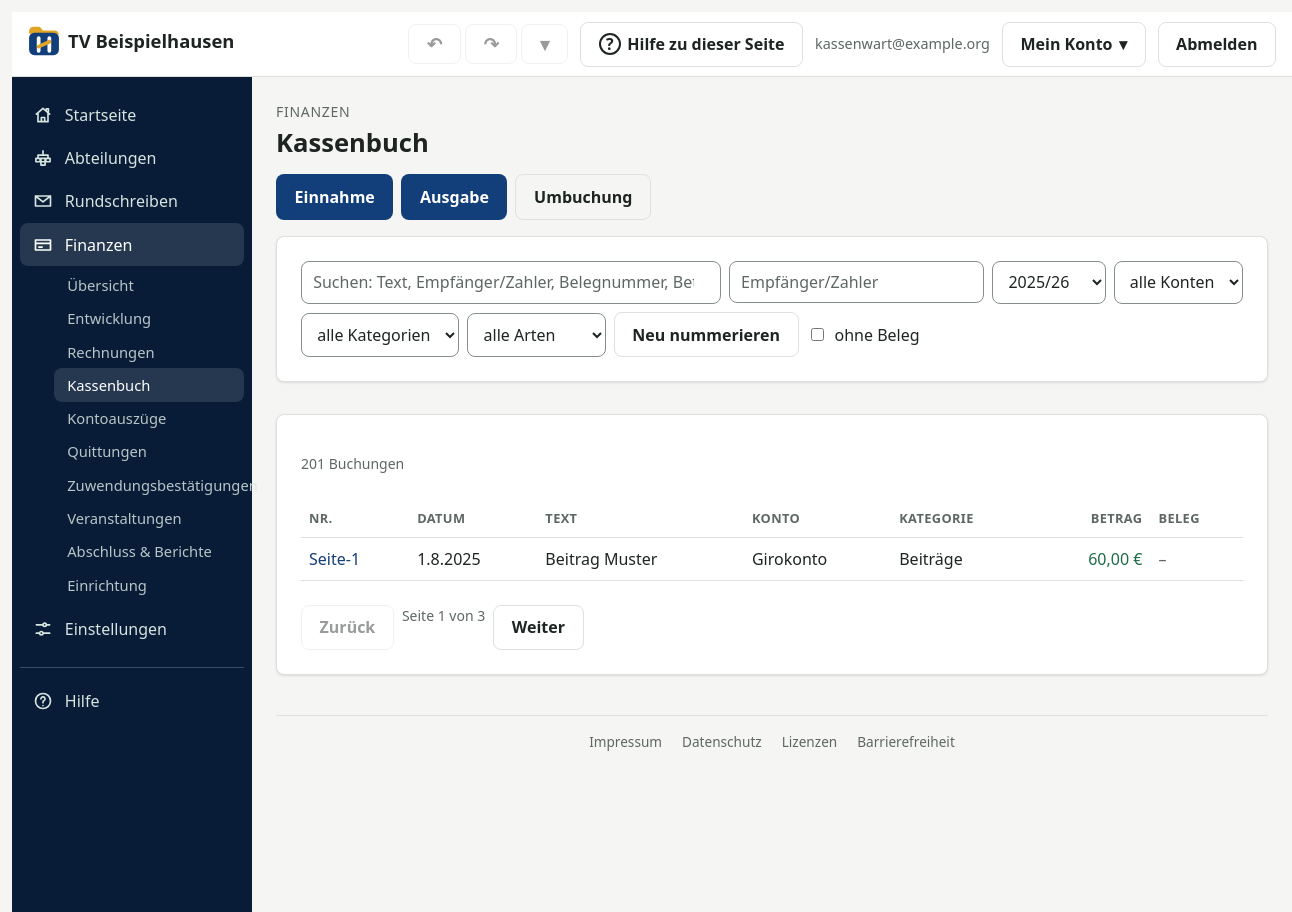
Test: Kasse › blättert im Kassenbuch vor und zurück (über 100 Buchungen)
expect the button "Seite-1" is shown: met, box x1=309 y1=547 x2=360 y2=571
expect the text "Seite 1 von 3" is shown: met, box x1=402 y1=606 x2=485 y2=625
Click the button "Weiter". click: [538, 627]
box: x1=493 y1=605 x2=584 y2=650
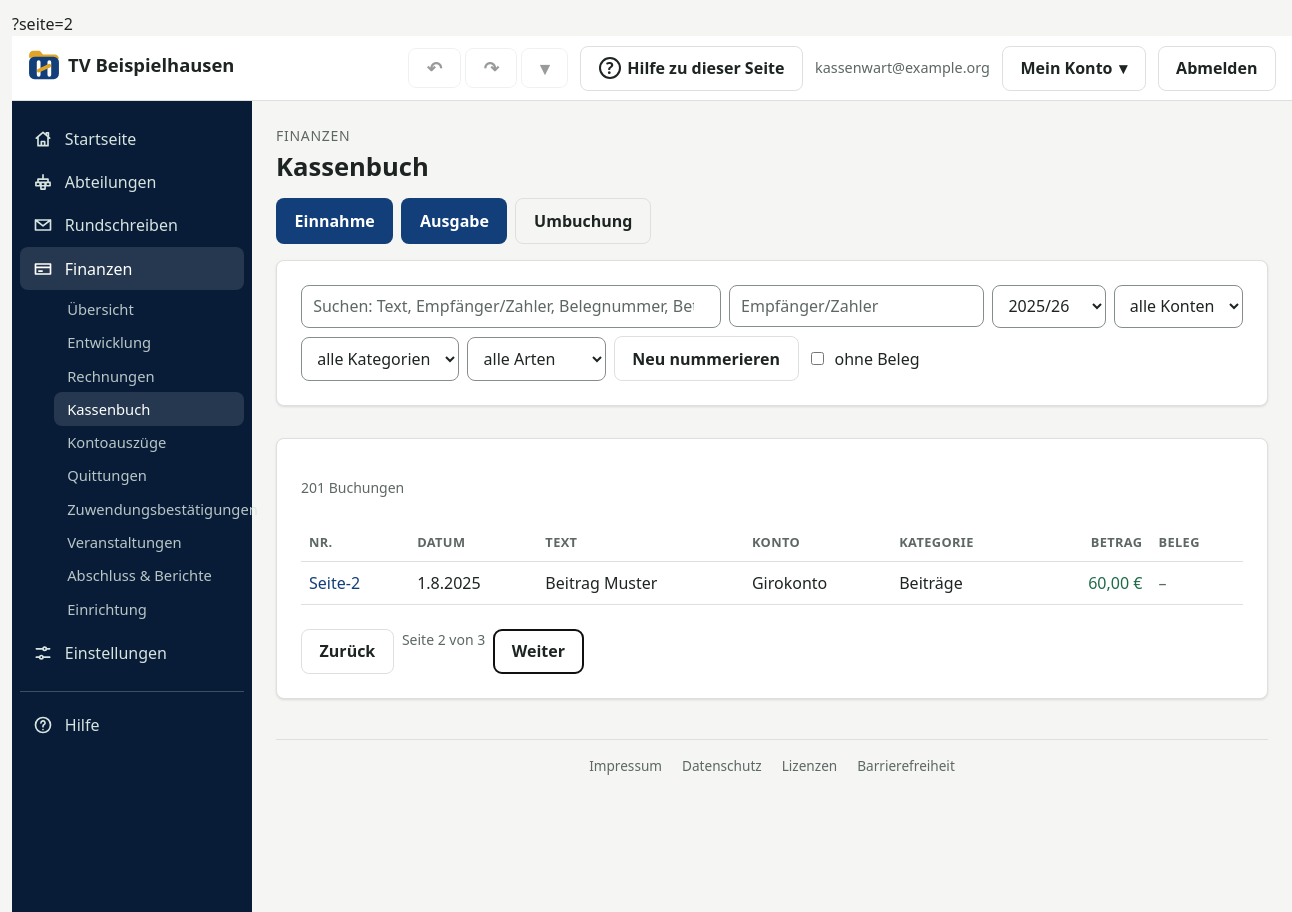
expect the button "Seite-2" is shown: met, box x1=309 y1=571 x2=360 y2=595
Click the button "Weiter". click: [538, 651]
box: x1=493 y1=629 x2=584 y2=674
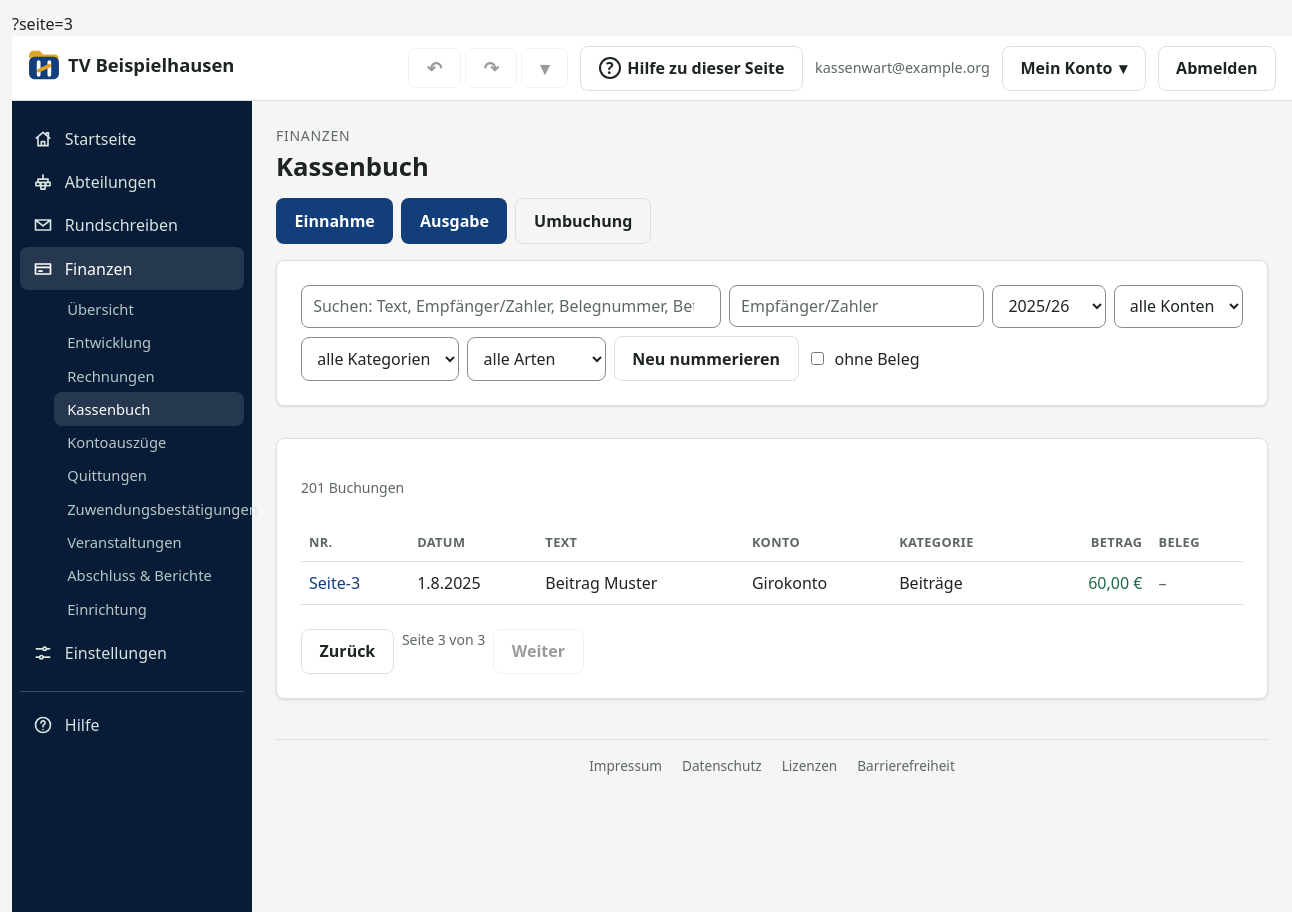
expect the button "Seite-3" is shown: met, box x1=309 y1=571 x2=360 y2=595
expect the button "Weiter" is disabled: met, box x1=493 y1=629 x2=584 y2=674
Click the button "Zurück". click: [347, 651]
box: x1=301 y1=629 x2=394 y2=674
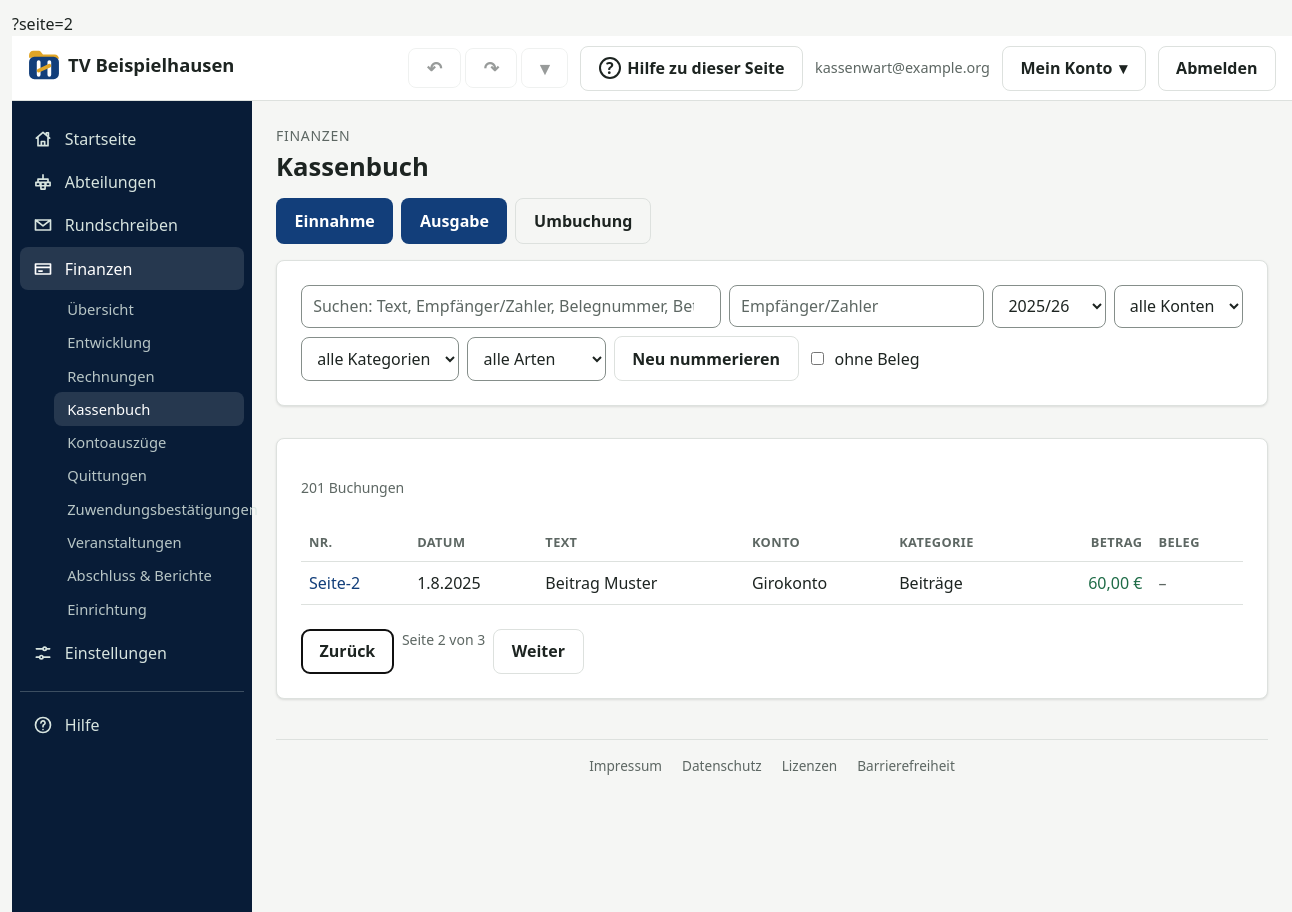
expect the button "Seite-2" is shown: met, box x1=309 y1=571 x2=360 y2=595
